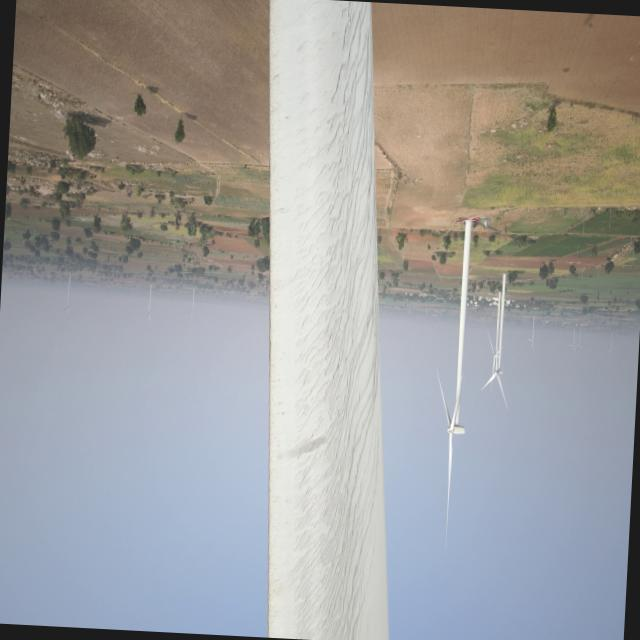Dirt: (271, 2, 392, 640)
